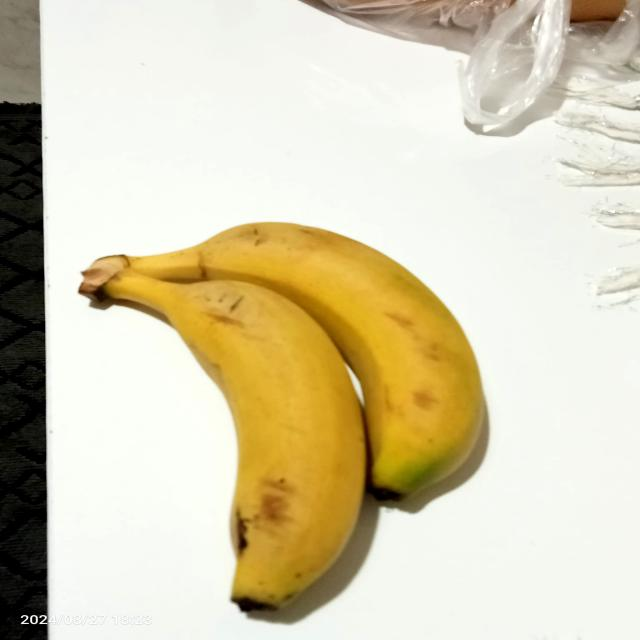banana: (75, 193, 504, 627)
